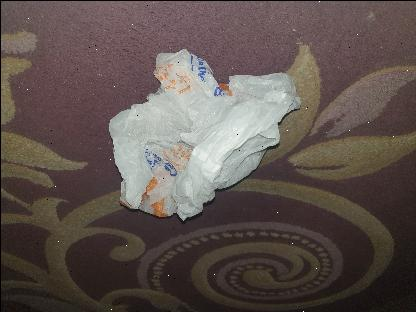Others: (106, 45, 302, 220)
